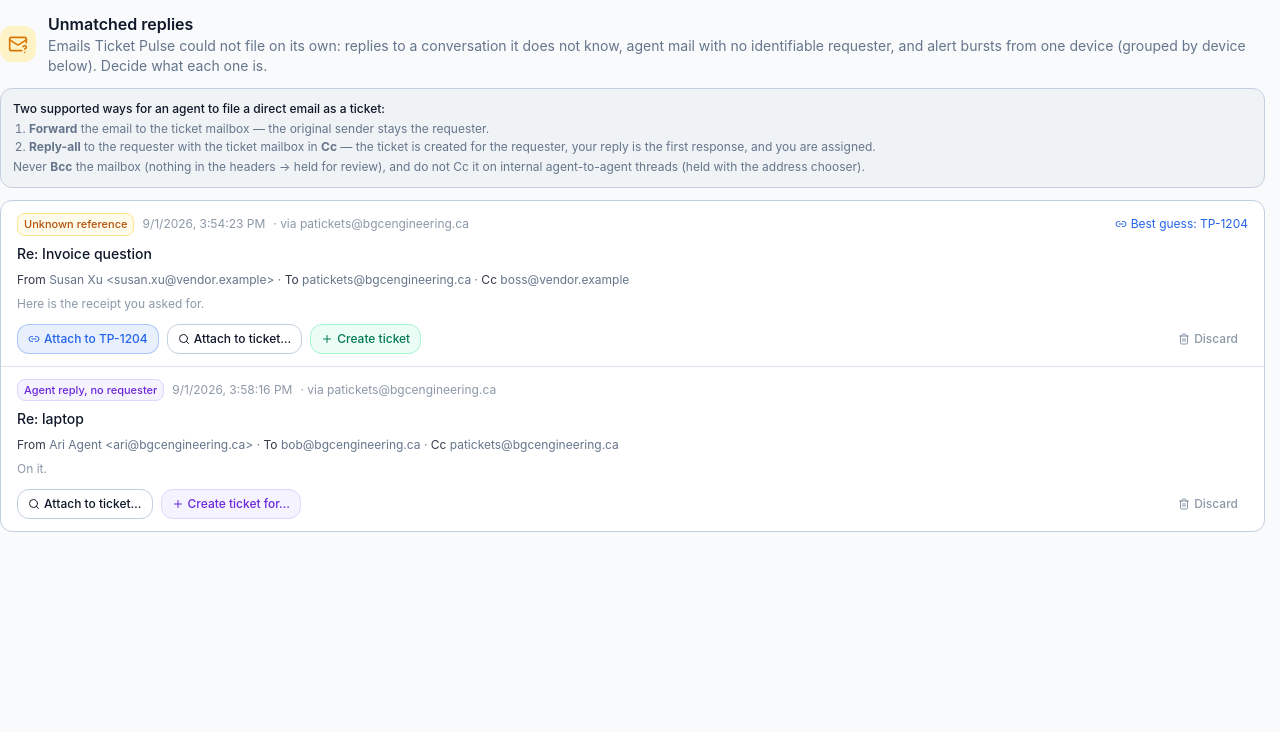
Scenario: HeldRepliesPanel (Phase RL, RL-4) › agent_reply_no_requester rows get the "Create ticket for <address>" chooser; create passes the chosen requester
This screenshot has width=1280, height=732.
Expected: the list item with test id "held-row-502" is shown, x1=1 y1=366 x2=1264 y2=531
Click the button "Create ticket for…" at (231, 504), box x1=160 y1=489 x2=301 y2=519
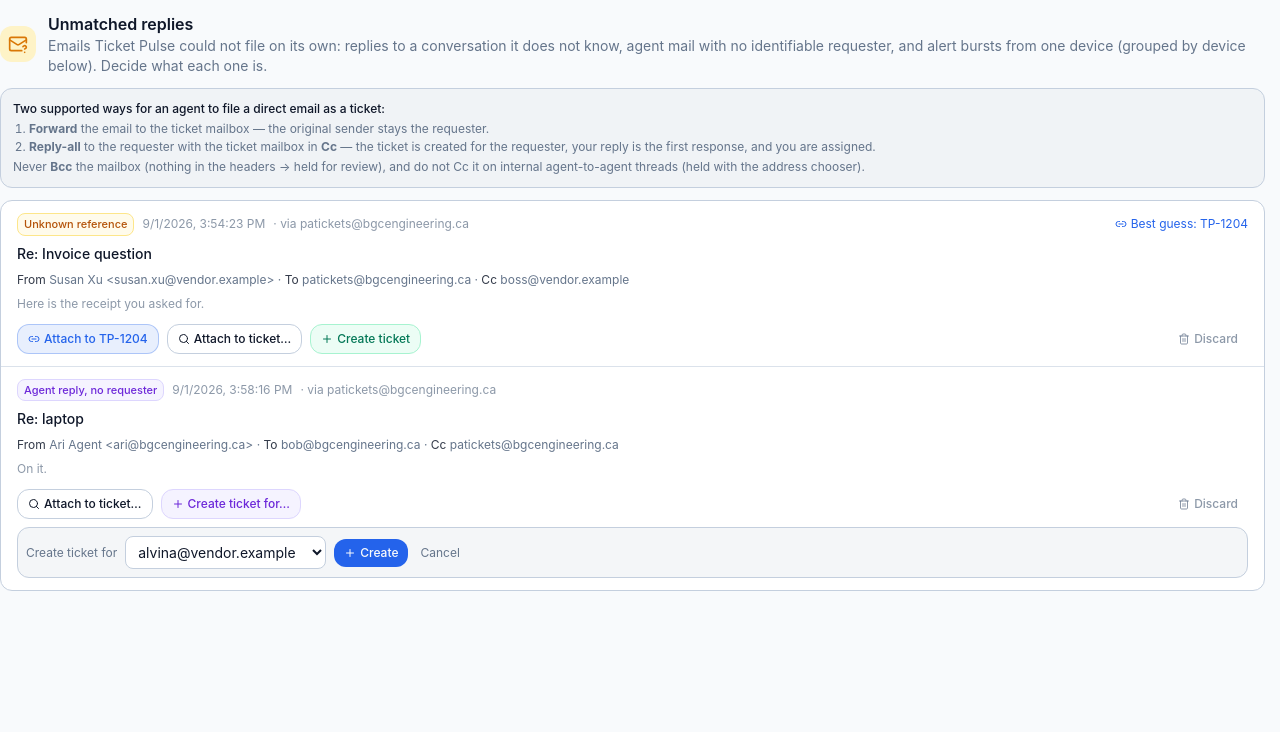
Select "alvina@vendor.example" in the dropdown labelled "Create ticket for" at (226, 552), box x1=125 y1=536 x2=326 y2=569
Click the button "Create" at (371, 552), box x1=334 y1=538 x2=408 y2=566
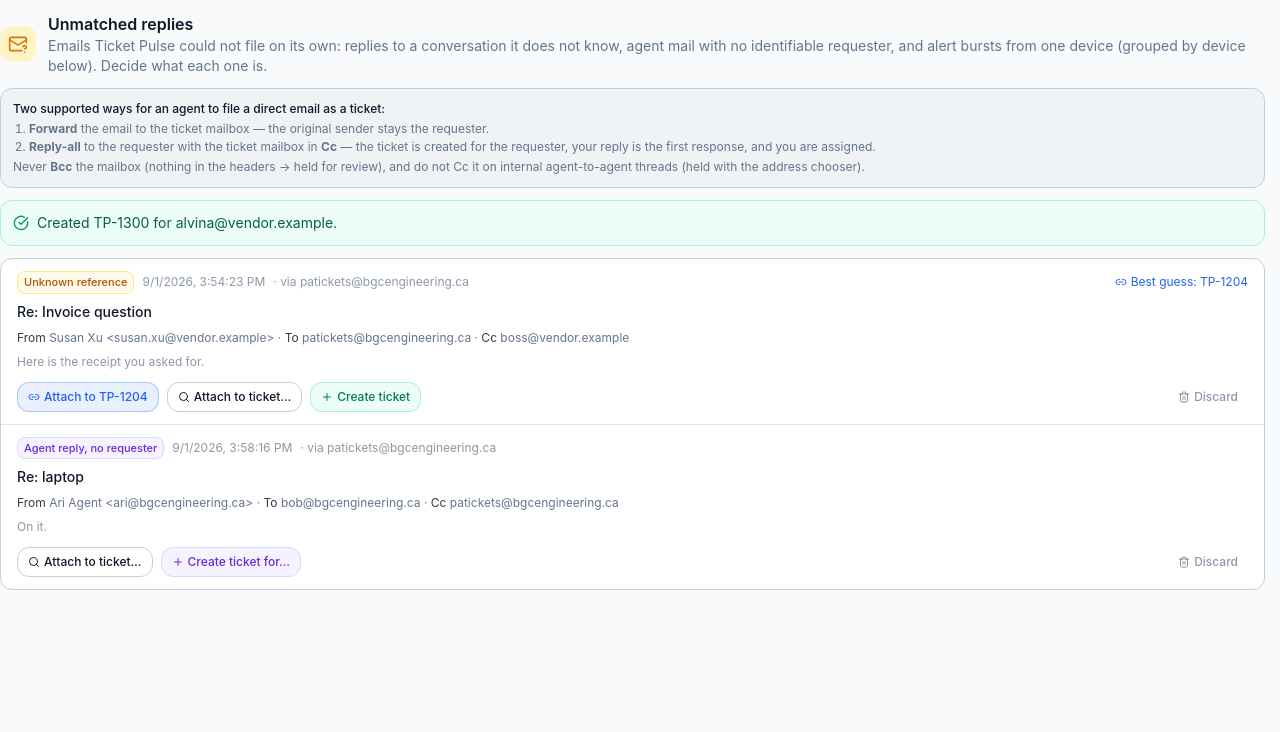
Expected: the message reads "Created TP-1300 for alvina@vendor.example.", x1=37 y1=214 x2=337 y2=231
